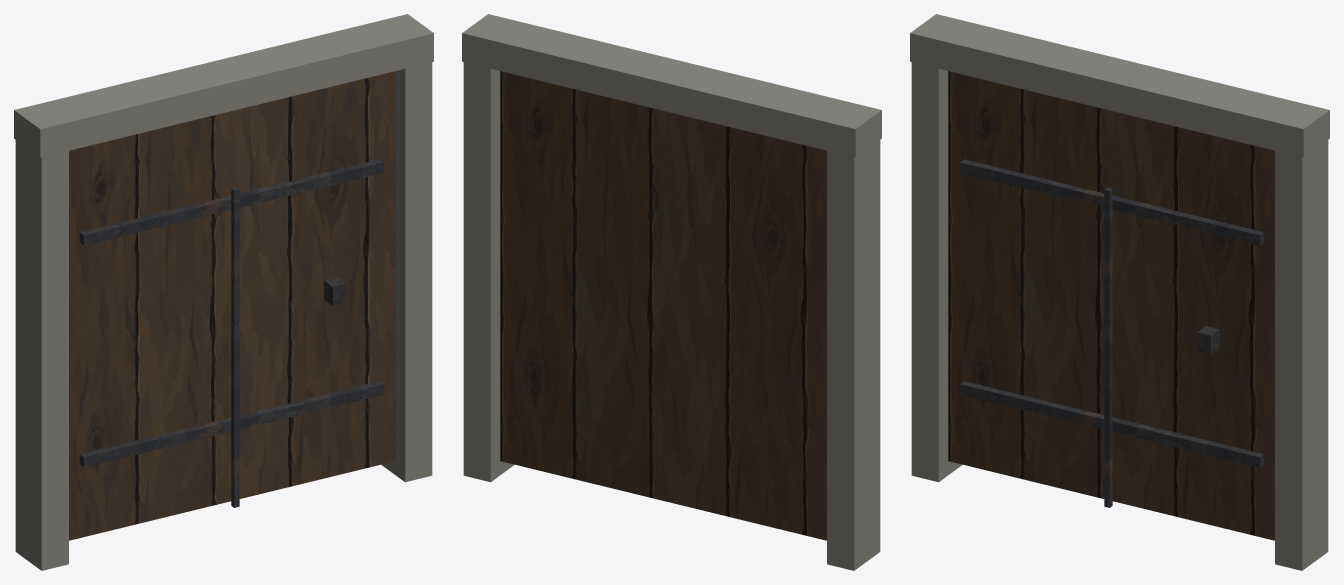
The model's file is door_double_oak.glb.
3 views of the same model, side by side, from view 1: azimuth 30°, elevation 25°; view 2: azimuth 150°, elevation 25°; view 3: azimuth 330°, elevation 25° (orthographic).
Visible parts, largest first — view 1: door_double_oak; view 2: door_double_oak; view 3: door_double_oak.
Part boxes in pixels (x1,y1,x2,y2): door_double_oak: (14, 14, 433, 570); door_double_oak: (462, 14, 881, 570); door_double_oak: (910, 14, 1329, 570).
Bounding box in the file's own units: 2.6 × 2.79 × 0.33.
3 materials, 2 textured.
